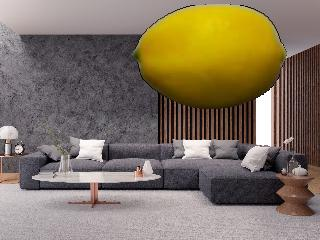lemon: (130, 1, 288, 110)
